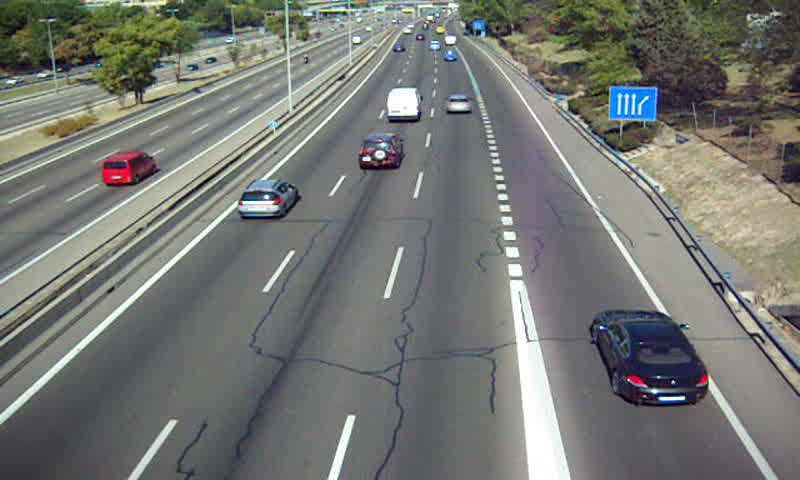car: (592, 309, 709, 405), (238, 179, 297, 218), (359, 133, 403, 170), (445, 94, 472, 113)
van: (387, 88, 422, 122)
